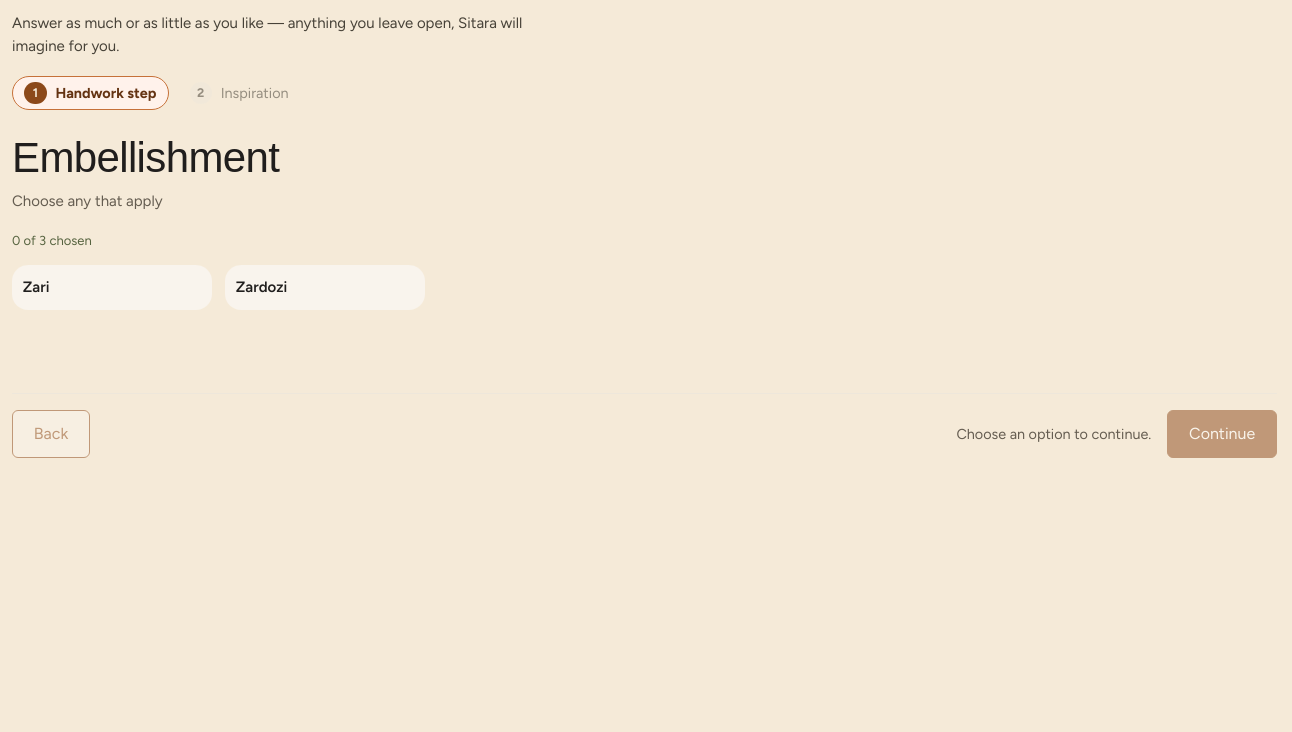
Test: wizard initialisation race (synchronous refs) › 4b: an answered-but-invalid screen is still refused by the resolver, not just by the gate
This screenshot has width=1292, height=732.
Click the checkbox labelled "Zari".
click(112, 288)  # box left=12, top=265, right=212, bottom=310
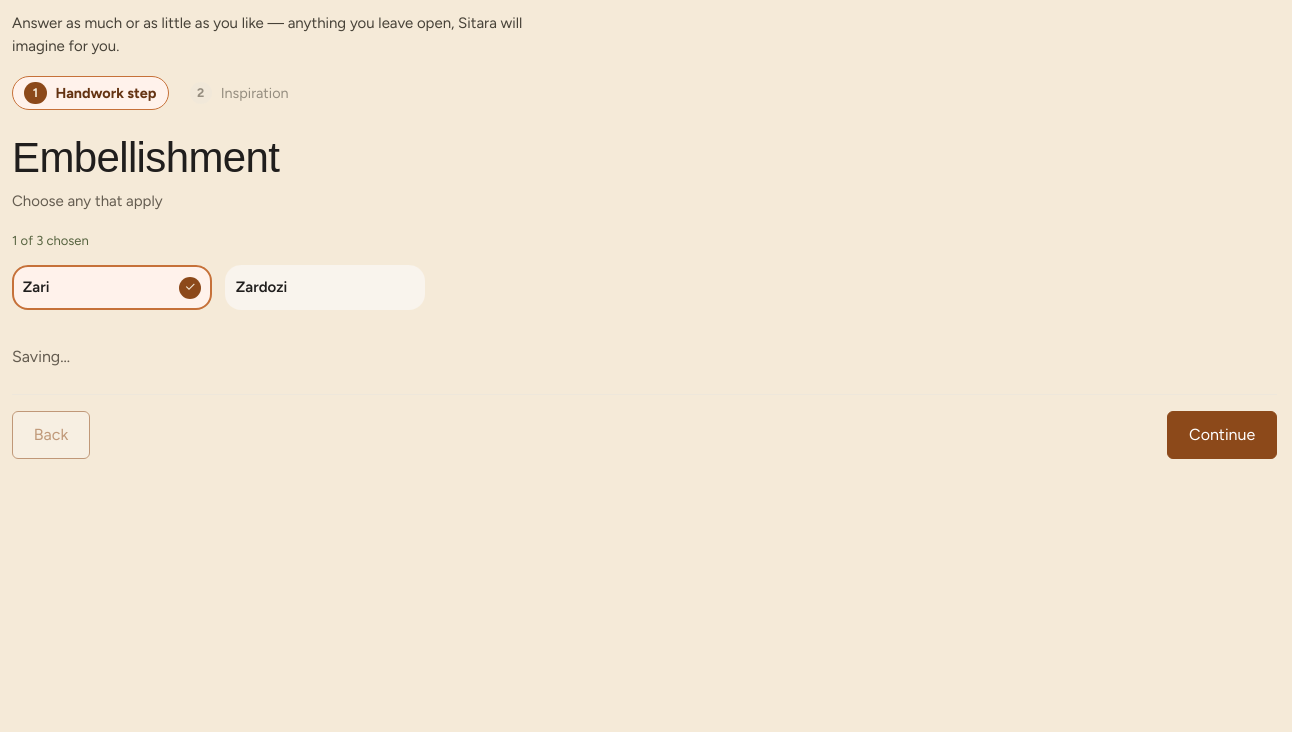
Check: the button "Continue" is enabled
Click the button "Continue".
click(1222, 435)  # box left=1167, top=411, right=1277, bottom=459
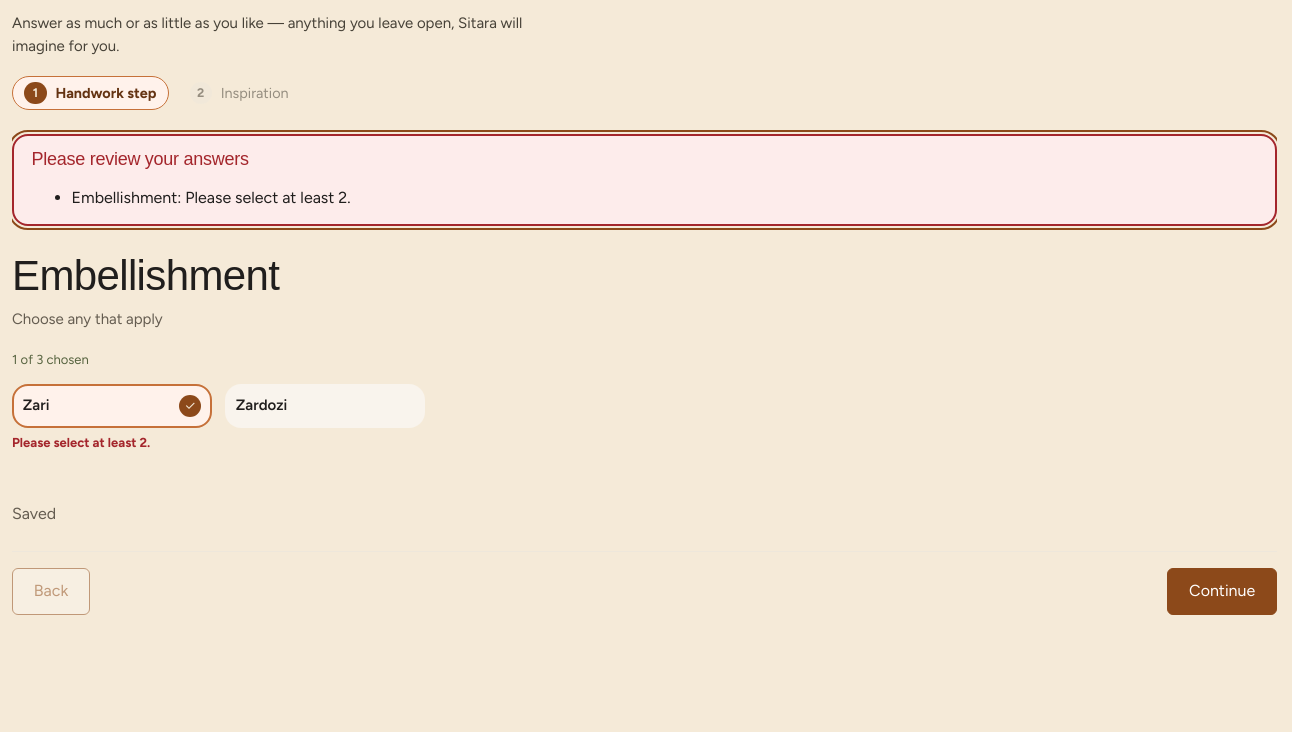
Check: the heading "Embellishment" is shown, box left=12, top=252, right=279, bottom=299
Check: the message named "There is a problem" shows "Embellishment", box left=72, top=188, right=177, bottom=207
